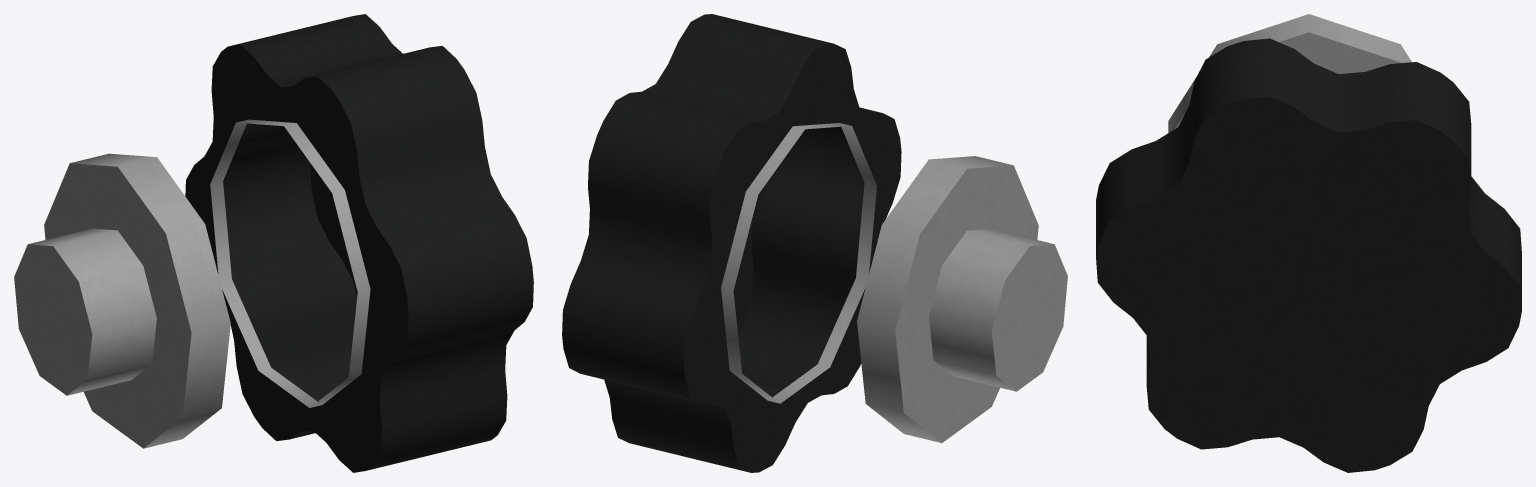
The model's file is SM_光谱仪_旋扭02.FBX.
3 views of the same model, side by side, from view 1: azimuth 30°, elevation 25°; view 2: azimuth 150°, elevation 25°; view 3: azimuth 270°, elevation 25° (orthographic). The views are drawn at different scales.
Visible parts, largest first — view 1: SM_光谱仪_旋扭02; view 2: SM_光谱仪_旋扭02; view 3: SM_光谱仪_旋扭02.
Part boxes in pixels (<box>): SM_光谱仪_旋扭02: <box>14,14,533,472</box>; SM_光谱仪_旋扭02: <box>562,14,1067,472</box>; SM_光谱仪_旋扭02: <box>1096,14,1521,472</box>.
Bounding box in the file's own units: 0.0396 × 0.0405 × 0.0416.
